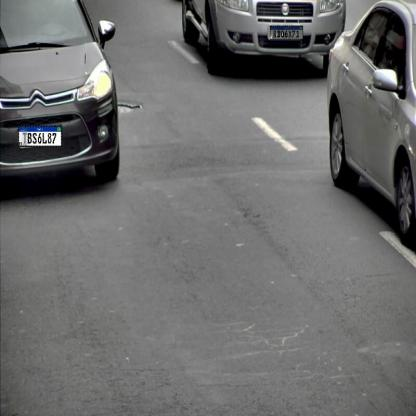PlacaM: (18, 125, 62, 147), (270, 26, 303, 40)
